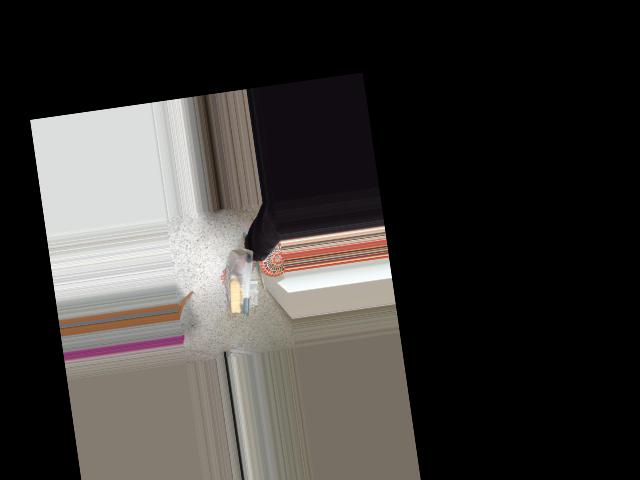cheese: (218, 243, 264, 316)
